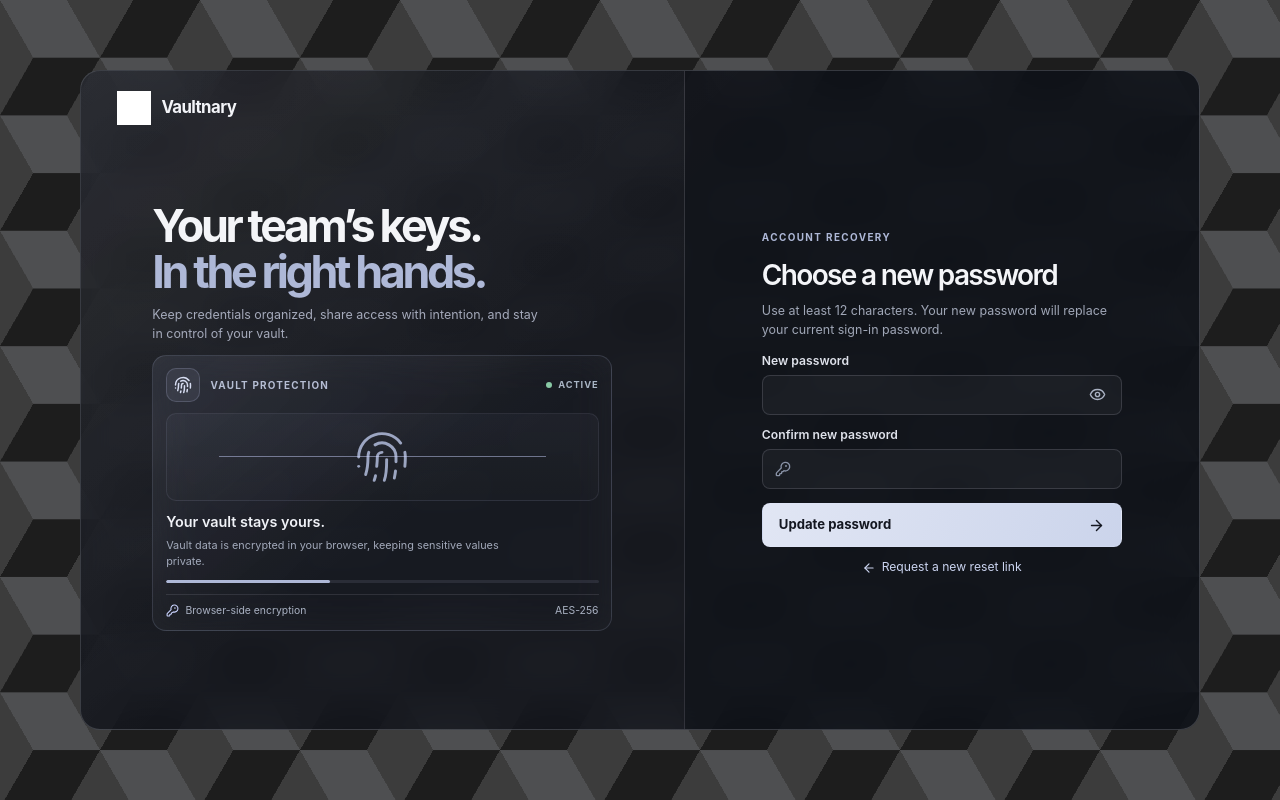
Test: ResetPasswordPage › submits the token and matching new password
Type "correct-horse-battery" into the password field labelled "New password" at (942, 395), box [762,375,1122,415]
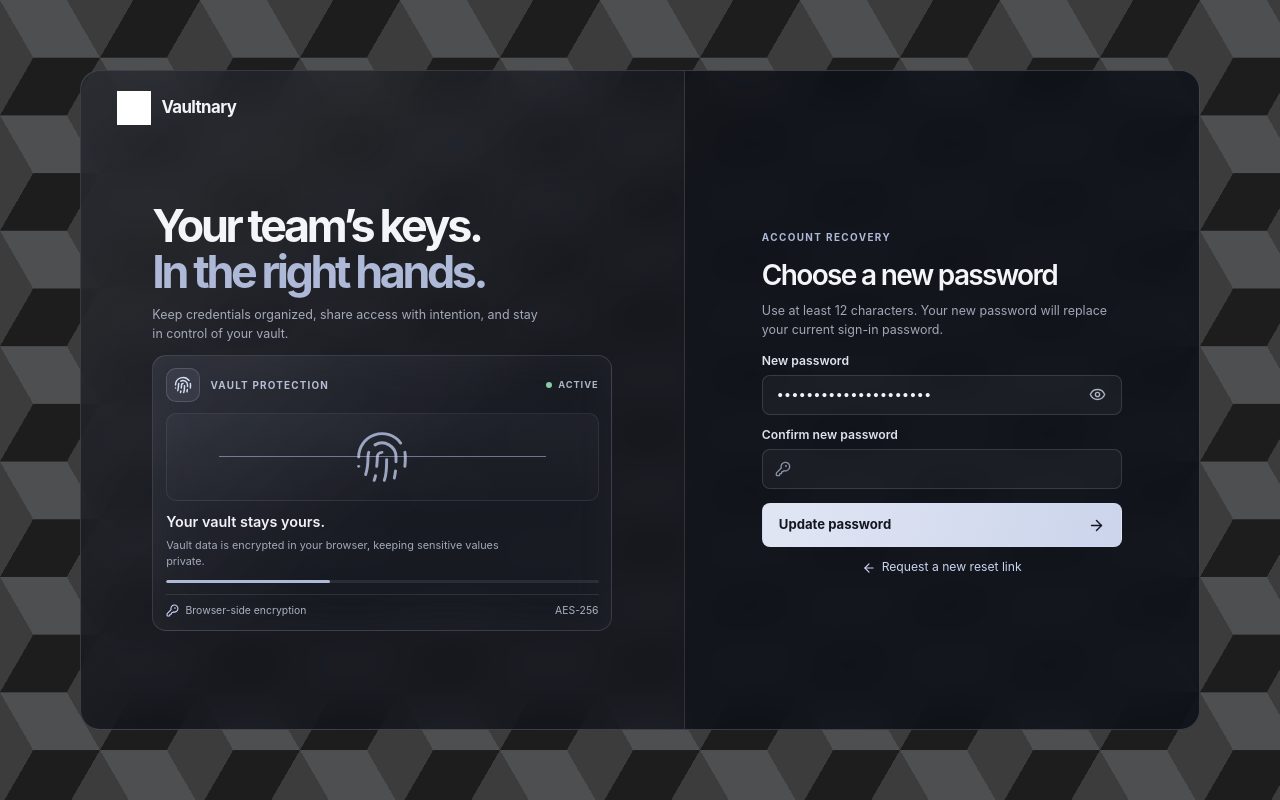
Type "correct-horse-battery" into the password field labelled "Confirm new password" at (942, 469), box [762,449,1122,489]
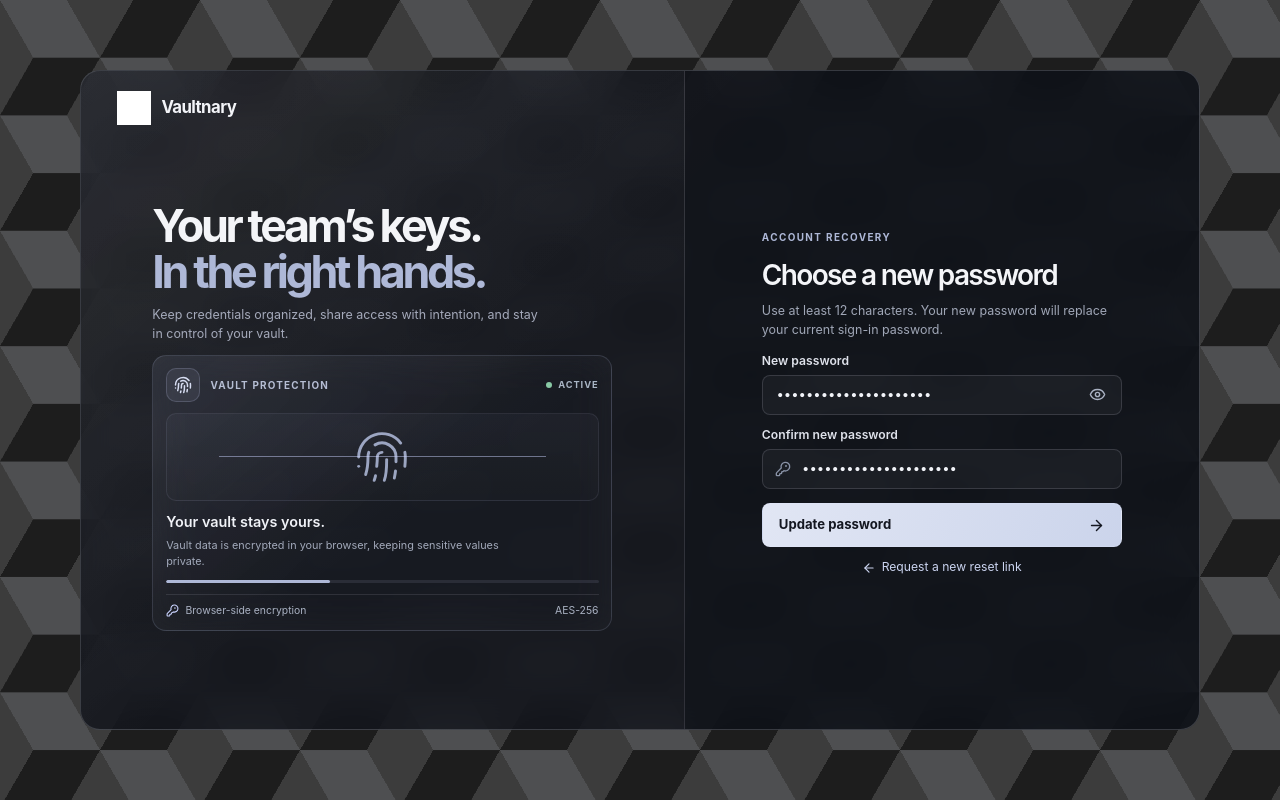
Click the button "Update password" at (835, 524), box [762,503,1122,547]
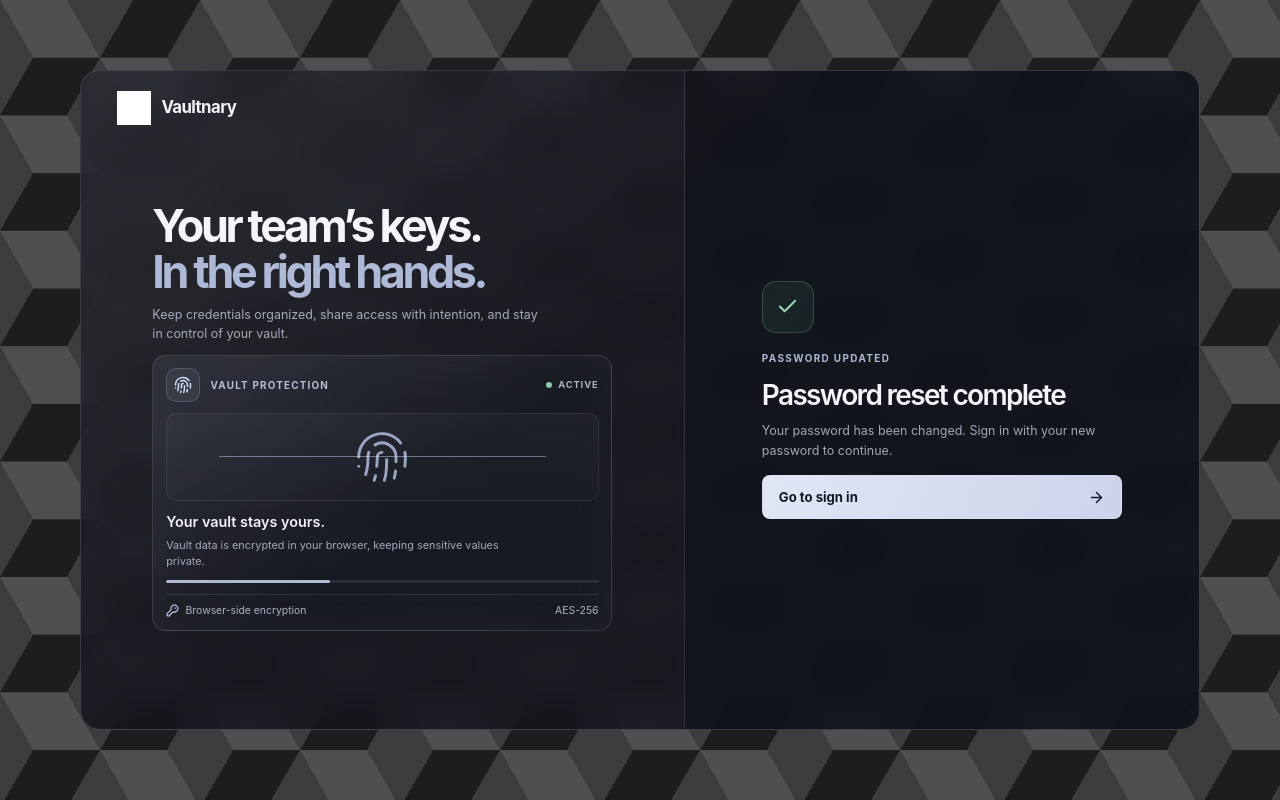
Now the heading "Password reset complete" is shown, box [762,378,1065,412]
